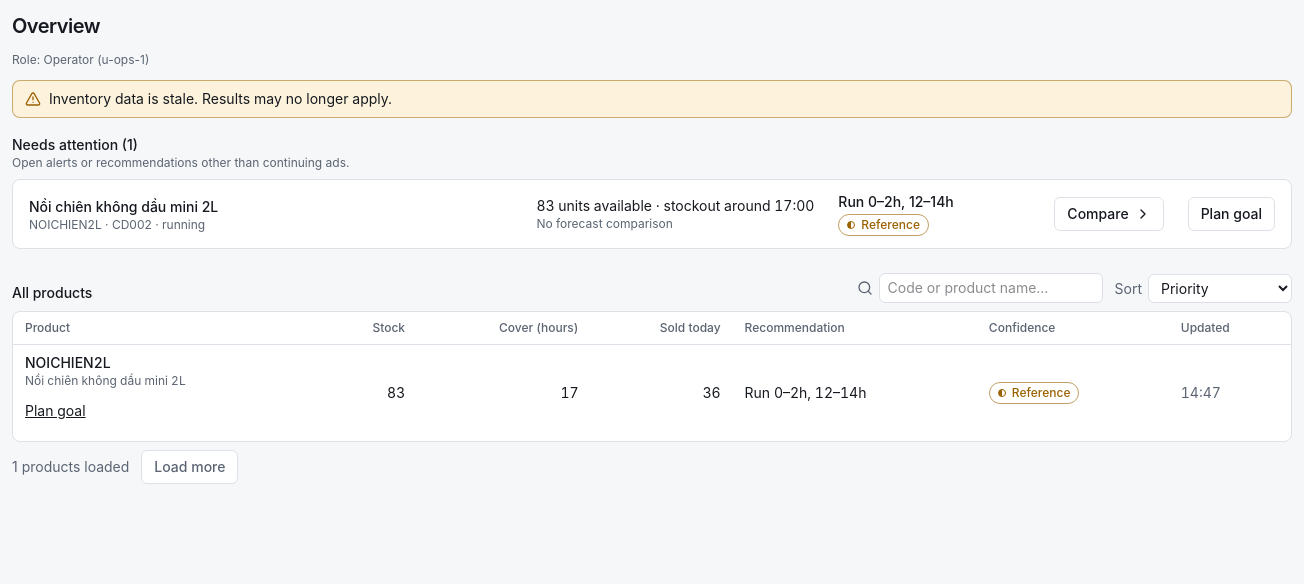
Scenario: Tổng quan ca · real API shapes › "Load more" follows next_cursor
Click the button "Load more" at (190,467), box left=141, top=450, right=238, bottom=484
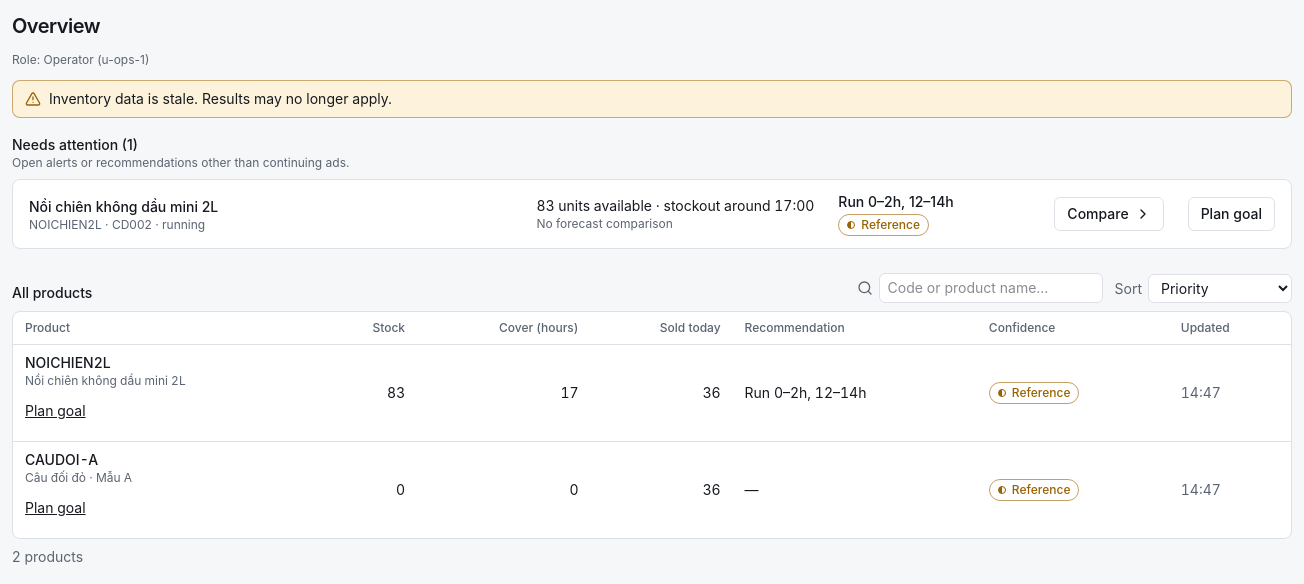
expect the link "CAUDOI-A" is shown: met, box left=25, top=451, right=98, bottom=468
expect the text "2 products" is shown: met, box left=12, top=547, right=83, bottom=567
